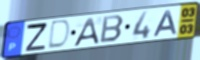4: (131, 10, 154, 41)
A: (72, 16, 101, 48), (152, 9, 178, 38)
B: (98, 15, 125, 45)
D: (46, 18, 72, 50)
Z: (25, 22, 49, 53)
